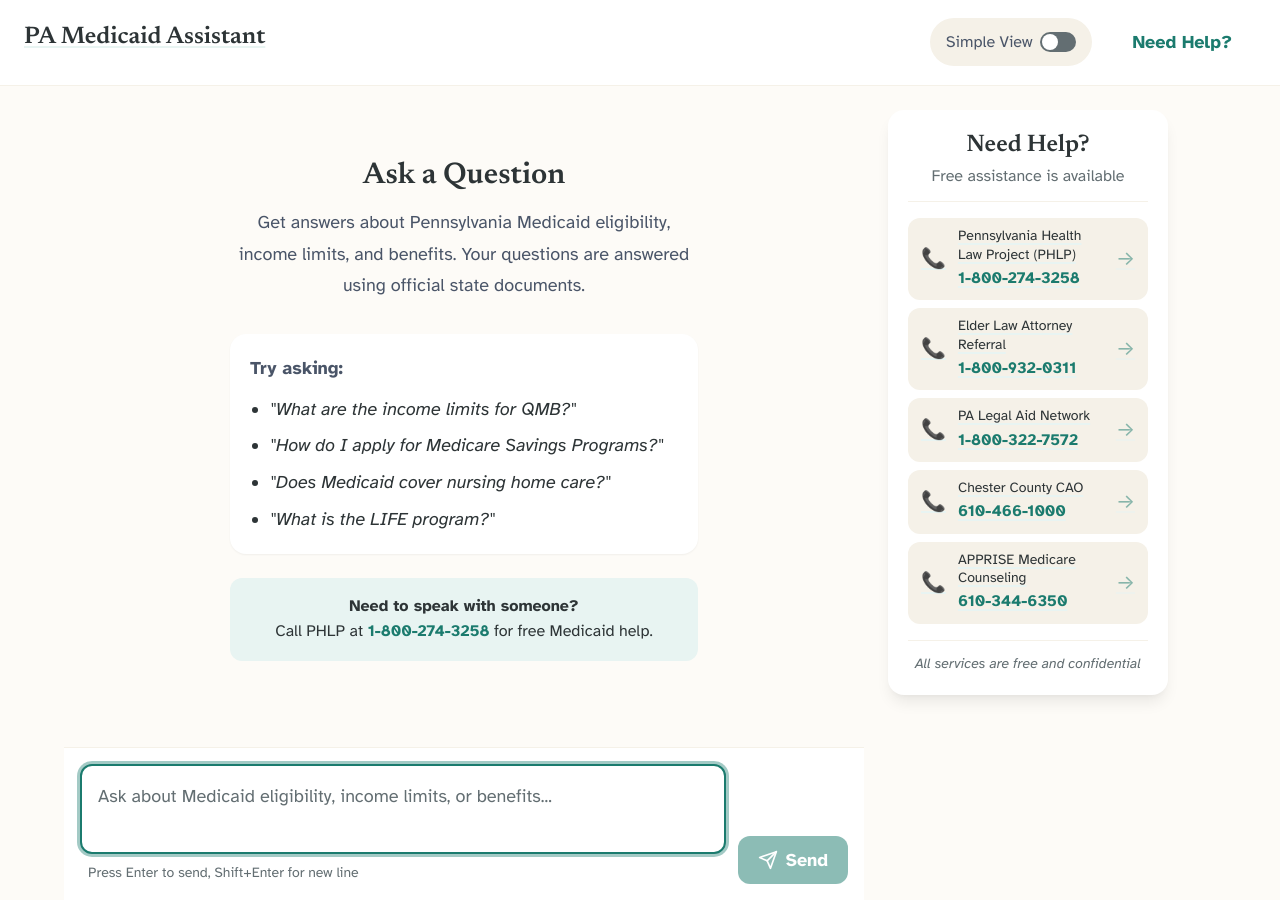
Chat › Header › toggles between Simple and Detailed view
Check: the text "Simple View" is shown, box 946,32 -> 1032,52
// Click to toggle
Step 1. Click the button "Simple View" → (1011, 42), box 930,18 -> 1092,66
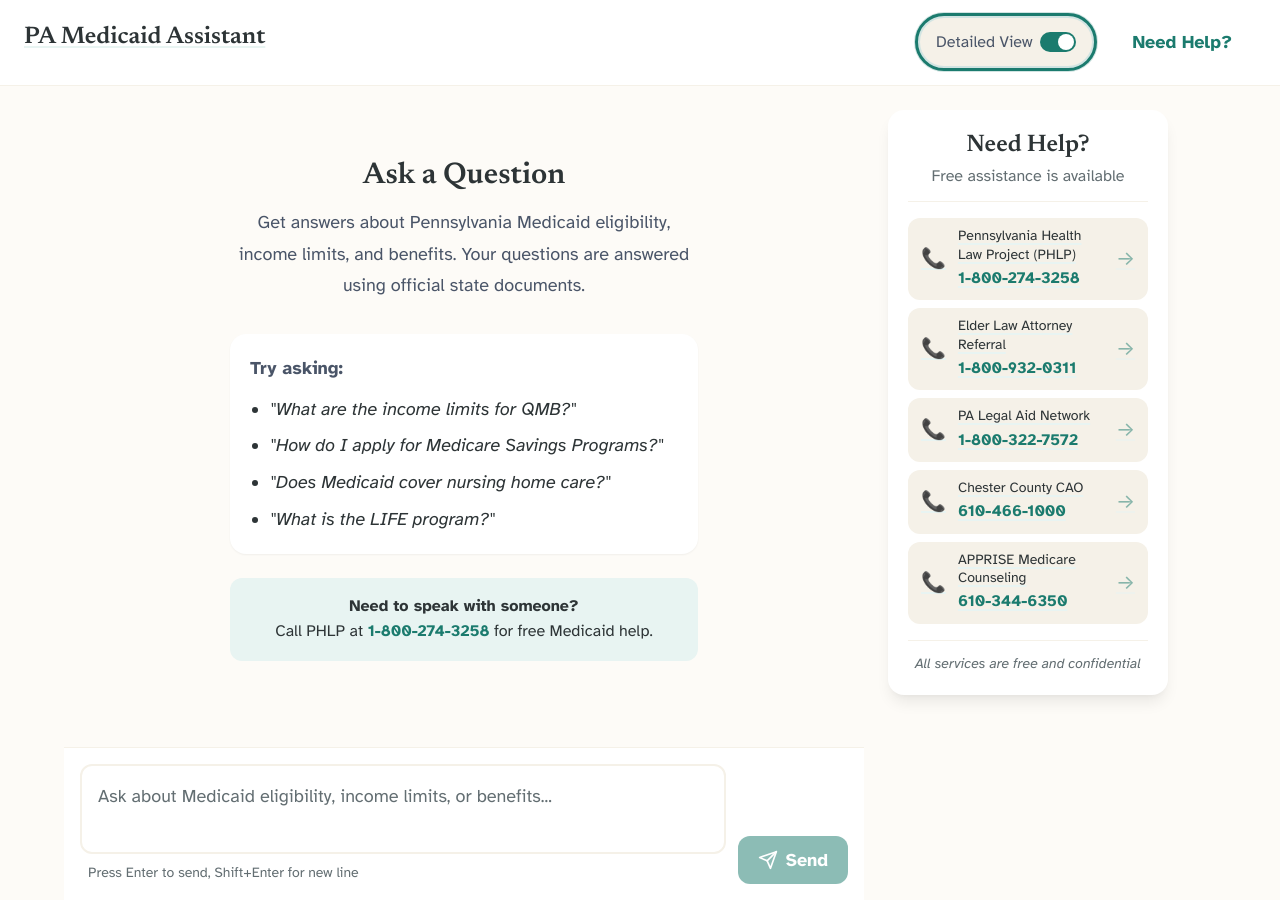
Check: the text "Detailed View" is shown, box 936,32 -> 1032,52
